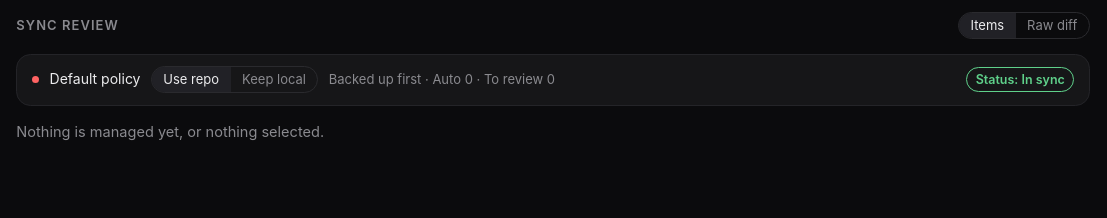
Test: SyncState raw view › renders module name and diff text when getDiff returns diffs
What coordinates should you click on to do the following:
click the button "Raw diff"
I would click on:
 (1052, 26)
Its box is [1016,13,1089,38].
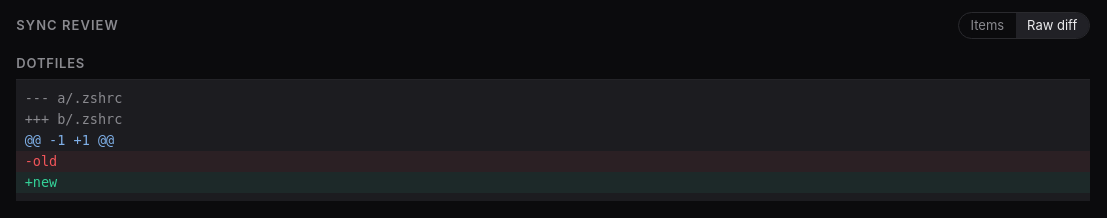
Result: the text "dotfiles" is shown at [16,55,85,71]
